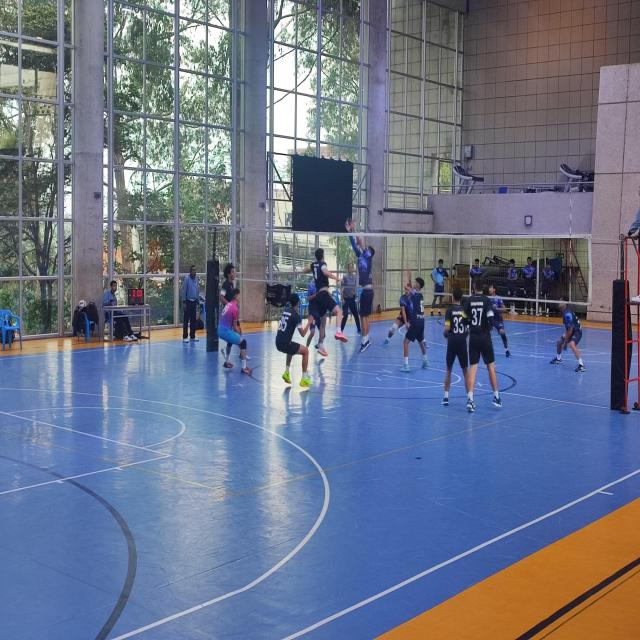volleyball: (78, 299, 87, 310)
